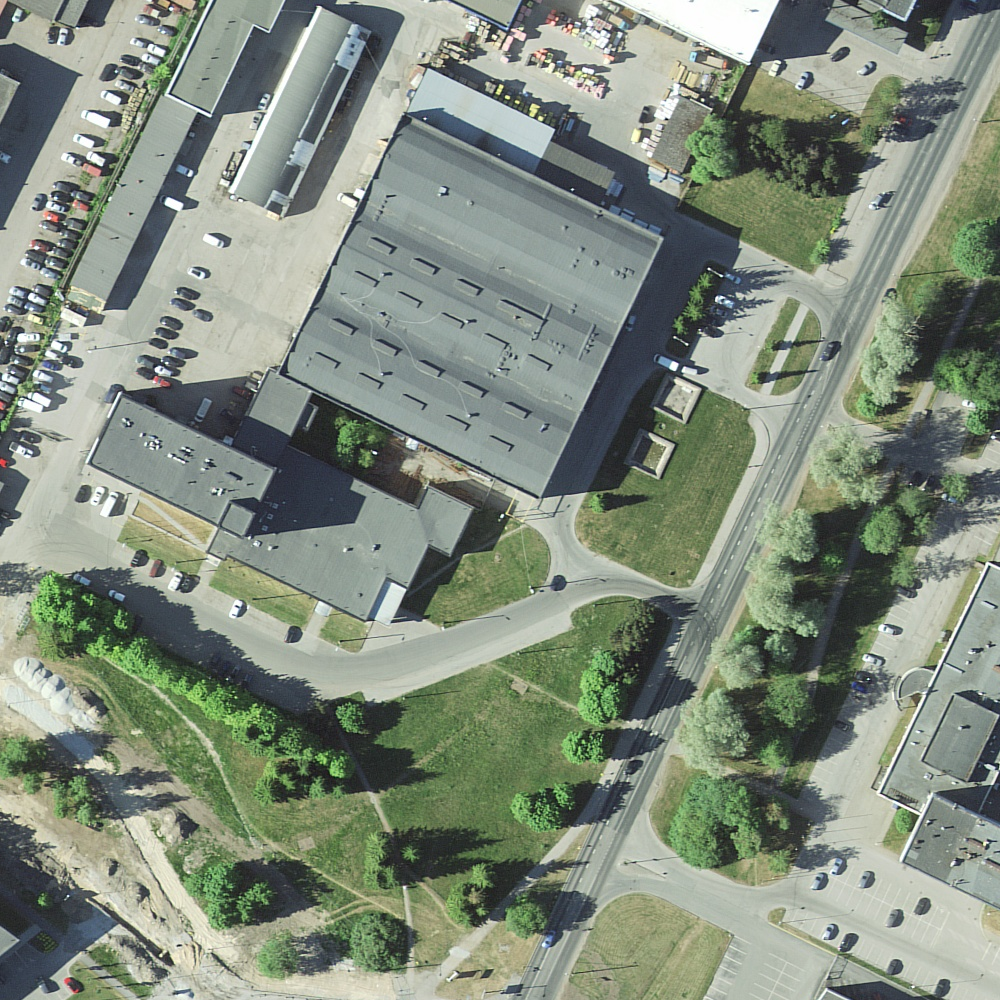building: (87, 69, 665, 629), (876, 561, 1000, 911), (228, 8, 373, 218), (70, 97, 199, 303), (166, 2, 287, 118), (613, 1, 780, 66), (8, 1, 91, 30), (449, 1, 524, 32), (863, 1, 917, 23), (2, 75, 23, 127)
